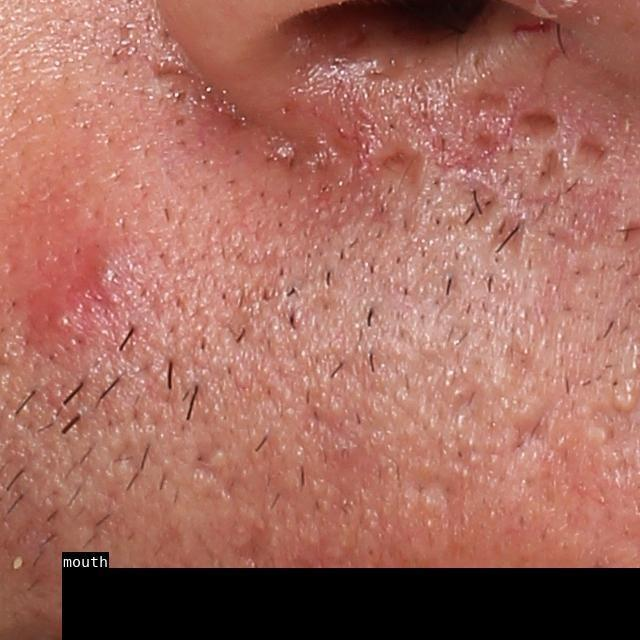atrophic_scar: (225, 520, 277, 577), (368, 138, 425, 185), (460, 80, 513, 119), (512, 104, 560, 145), (572, 132, 614, 172), (512, 413, 549, 453), (496, 209, 528, 255)
hypertrophic_scar: (611, 386, 640, 414), (587, 421, 618, 446)
